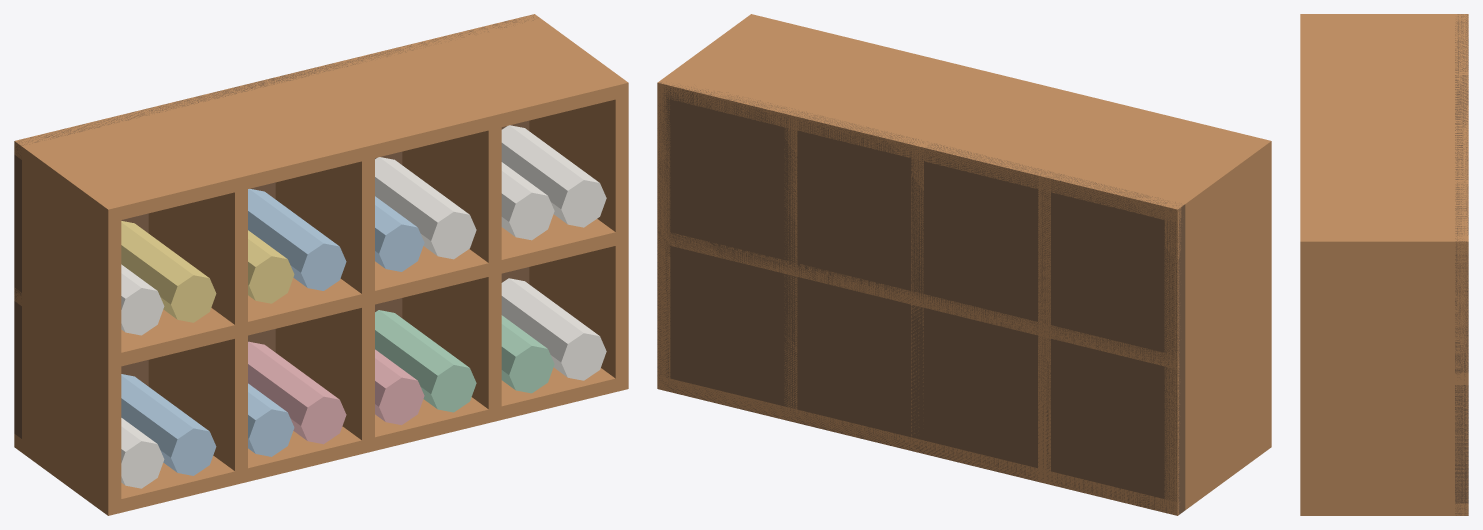
Rendered from cubbies.glb.
3 views of the same model, side by side, from view 1: azimuth 30°, elevation 25°; view 2: azimuth 150°, elevation 25°; view 3: azimuth 270°, elevation 25° (orthographic). The views are drawn at different scales.
Parts seen in each view (by area): view 1: cubbies; view 2: cubbies; view 3: cubbies.
Boxes of the visible parts, box(x1,y1,x2,y2) form: cubbies: box(14, 14, 628, 515); cubbies: box(657, 14, 1271, 515); cubbies: box(1300, 14, 1468, 515).
Bounding box in the file's own units: 1.6 × 0.9 × 0.5.
